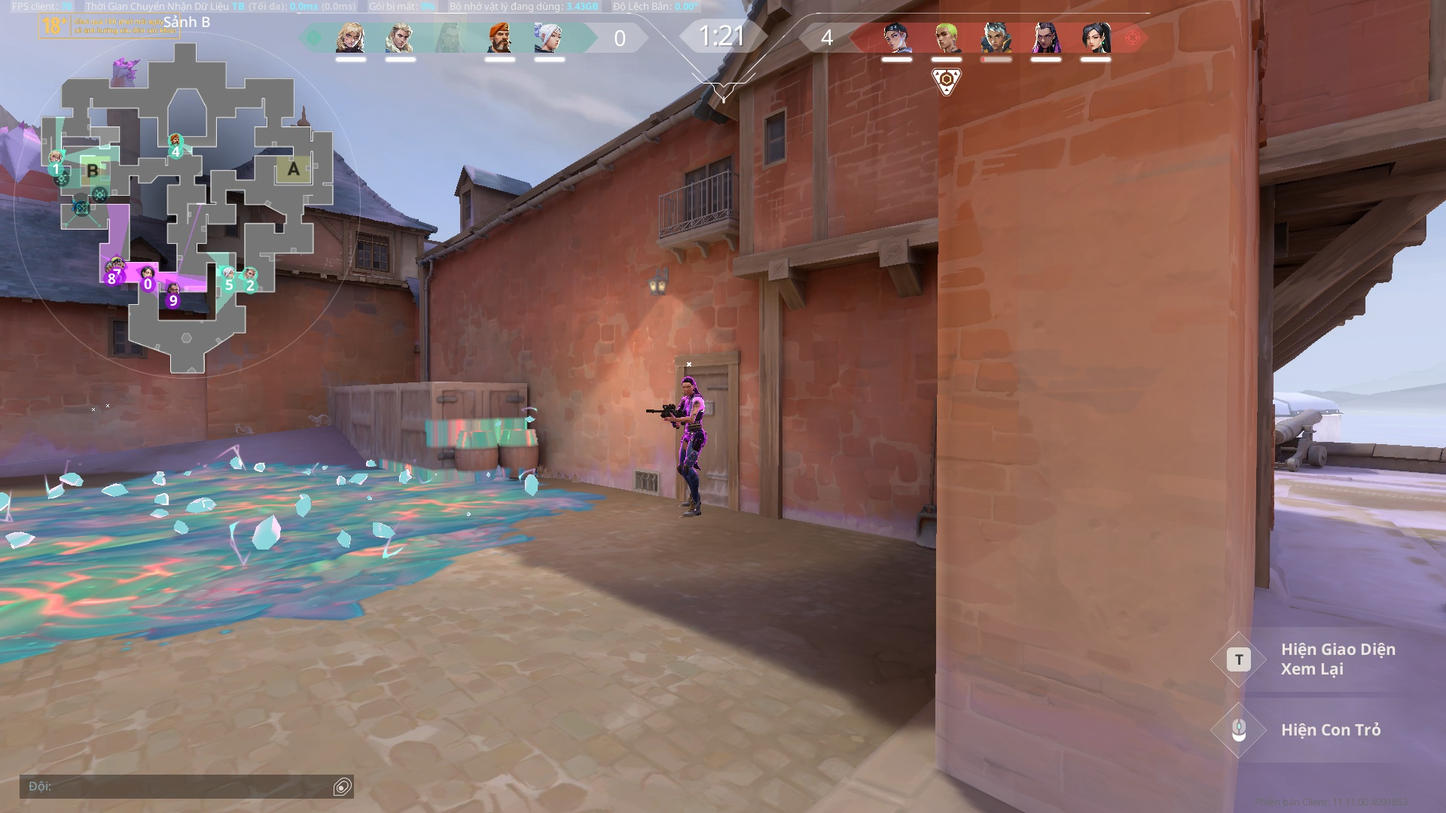body: (678, 394, 706, 428)
head: (681, 376, 697, 397)
